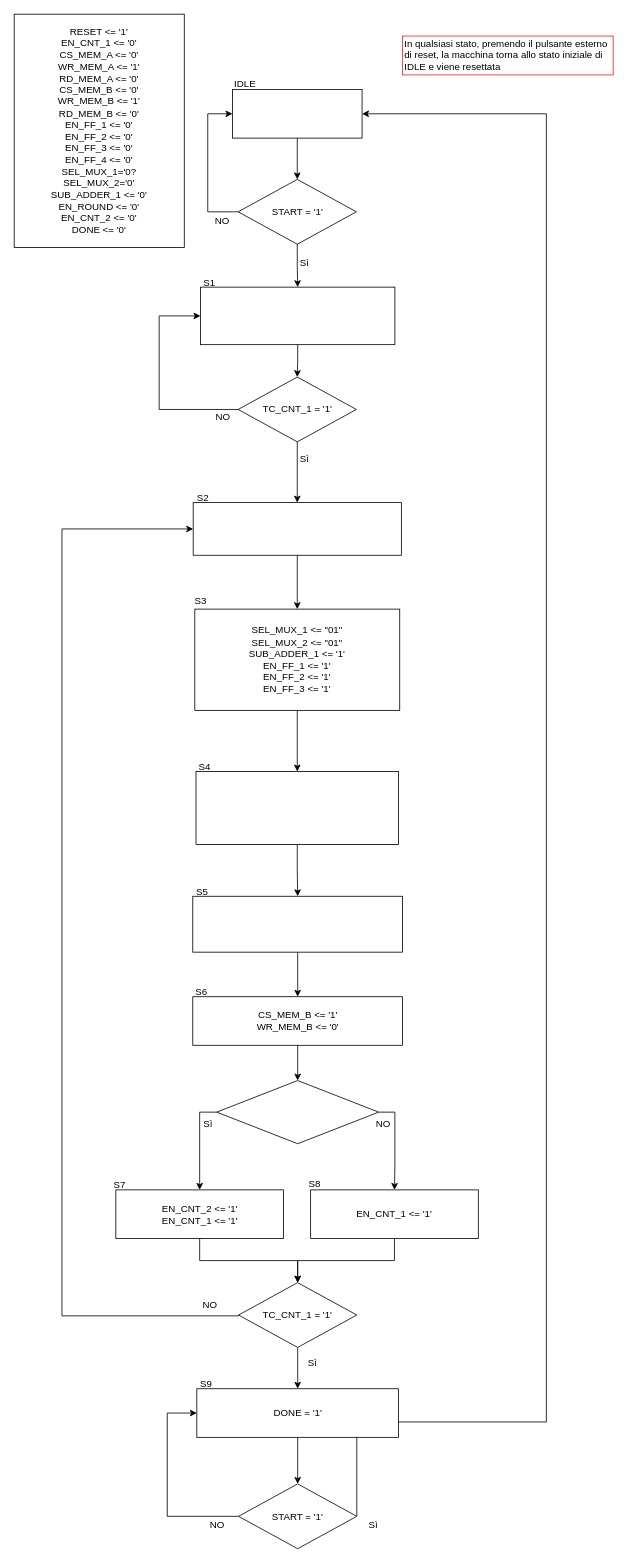
Image size: 628x1563. Some labels were removed from this diagram. Each missing label, with the centre of its shape:
CS_MEM_A <= '1' RD_MEM_A <= '1': (x=296, y=528)
CS_MEM_A <= '1' WR_MEM_A <= '0' EN_CNT_1 <= '1': (x=297, y=315)
OUT_ROUND = '0' and not (OUT_ROUND = "00000000"): (x=297, y=1112)
RESET_n <= '0': (x=297, y=113)
SEL_MUX_1 <= "00" SEL_MUX_2 <= "10" EN_ROUND <= '1': (x=297, y=923)
SEL_MUX_1 <= "10" SEL_MUX_2 <= "00" EN_FF_4 <= '1' SUB_ADDER_1 <= '1': (x=297, y=807)
